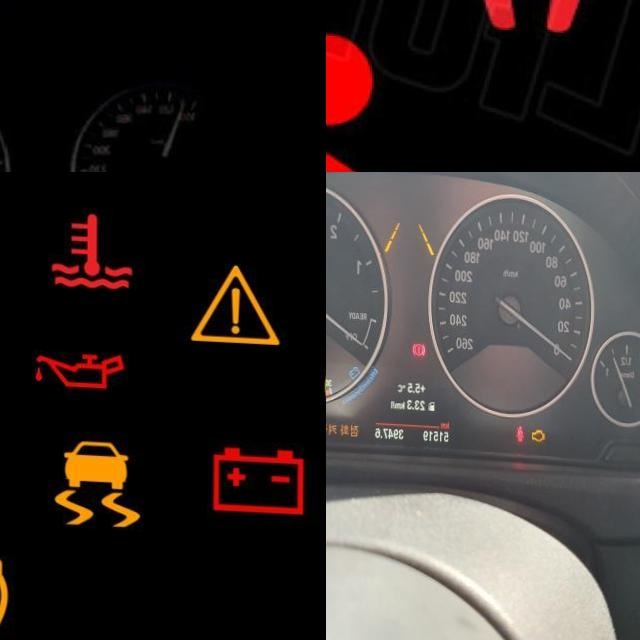High Engine Coolant Temperature: (36, 190, 148, 305)
